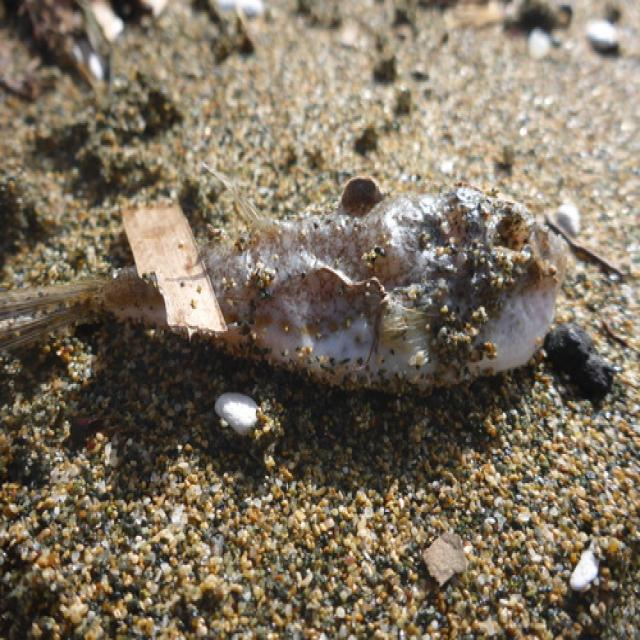Balik: (201, 178, 565, 390)
